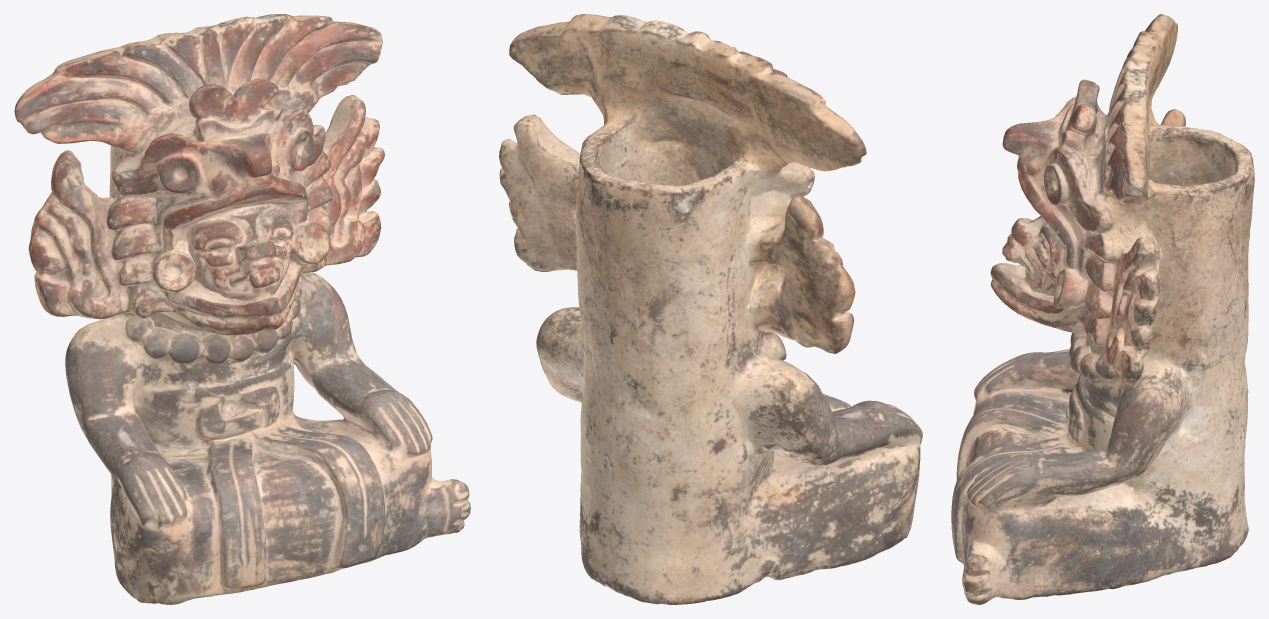
The model's file is urna-zapoteca.glb.
3 renders of one model, left to right at view 1: azimuth 30°, elevation 25°; view 2: azimuth 150°, elevation 25°; view 3: azimuth 270°, elevation 25°, orthographic. The views are drawn at different scales.
Visible parts, largest first — view 1: Object_4; view 2: Object_4; view 3: Object_4.
Boxes of the visible parts, <box> form: Object_4: <box>14,14,470,604</box>; Object_4: <box>499,14,922,604</box>; Object_4: <box>951,14,1254,604</box>.
Size of the model in its own units: 0.2232 by 0.2959 by 0.1702.
Materials: 1 (1 with a texture image).
